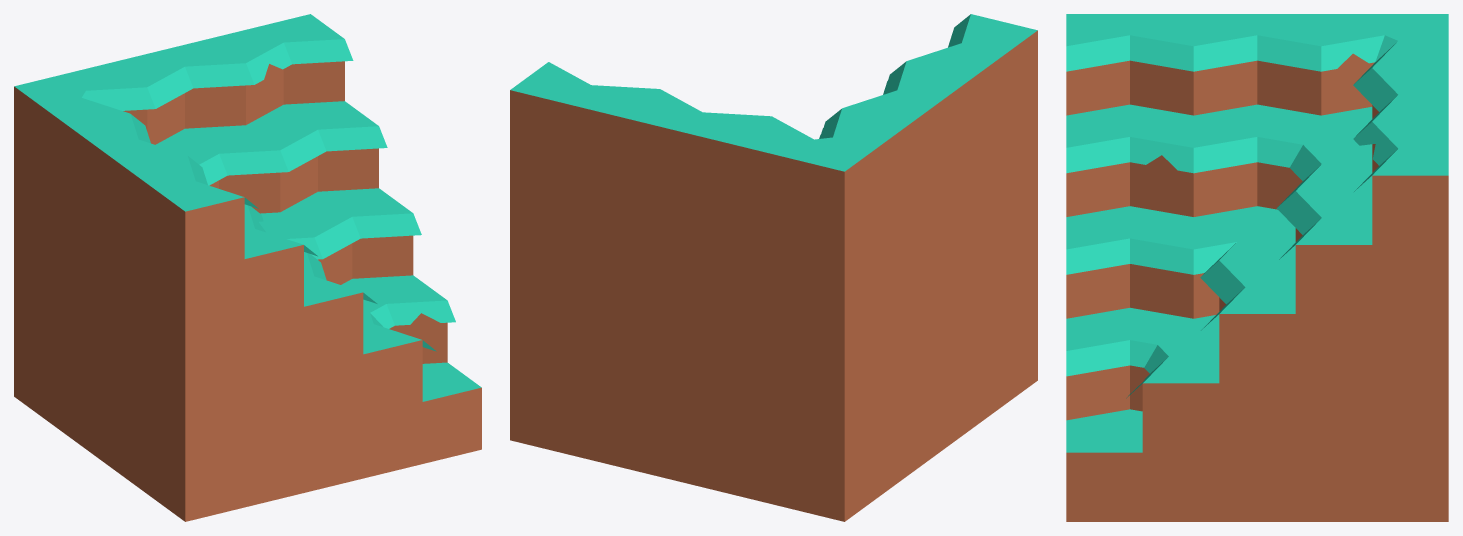
File: cliff_stepsCornerInner_rock.dae
The picture shows the model from 3 angles, left to right: view 1: azimuth 30°, elevation 25°; view 2: azimuth 150°, elevation 25°; view 3: azimuth 270°, elevation 25°; orthographic projection. The views are drawn at different scales.
Visible parts, largest first — view 1: cliff_stepsCornerInner_rock; view 2: cliff_stepsCornerInner_rock; view 3: cliff_stepsCornerInner_rock.
Boxes of the visible parts, x1,y1,x2,y2 form: cliff_stepsCornerInner_rock: [14, 14, 481, 521]; cliff_stepsCornerInner_rock: [510, 14, 1037, 521]; cliff_stepsCornerInner_rock: [1066, 14, 1448, 521].
Bounding box in the file's own units: 1 × 1 × 1.
